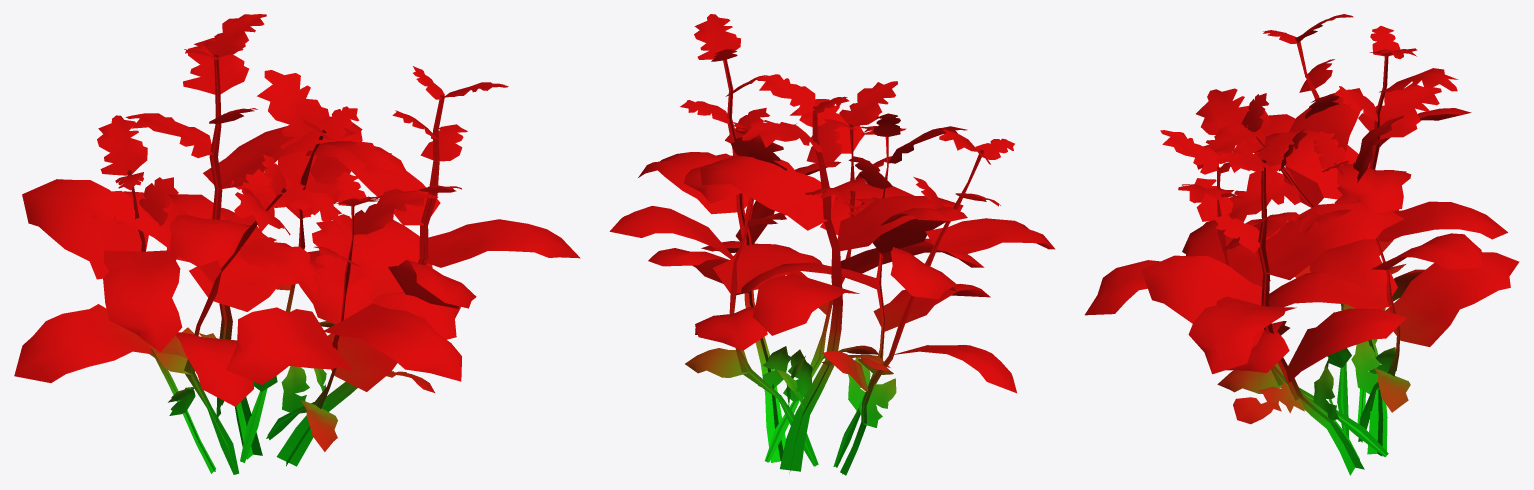
File: Black Locust_LOD2_Var13.fbx
3 renders of one model, left to right at view 1: azimuth 30°, elevation 25°; view 2: azimuth 150°, elevation 25°; view 3: azimuth 270°, elevation 25°, orthographic. The views are drawn at different scales.
Visible parts, largest first — view 1: _m0p9_Var13_LOD2; view 2: _m0p9_Var13_LOD2; view 3: _m0p9_Var13_LOD2.
Boxes of the visible parts, x1=… form: _m0p9_Var13_LOD2: x1=14, y1=14, x2=580, y2=474; _m0p9_Var13_LOD2: x1=609, y1=14, x2=1055, y2=475; _m0p9_Var13_LOD2: x1=1085, y1=14, x2=1519, y2=475.
Size of the model in its own units: 56.38 by 48.66 by 46.04.
